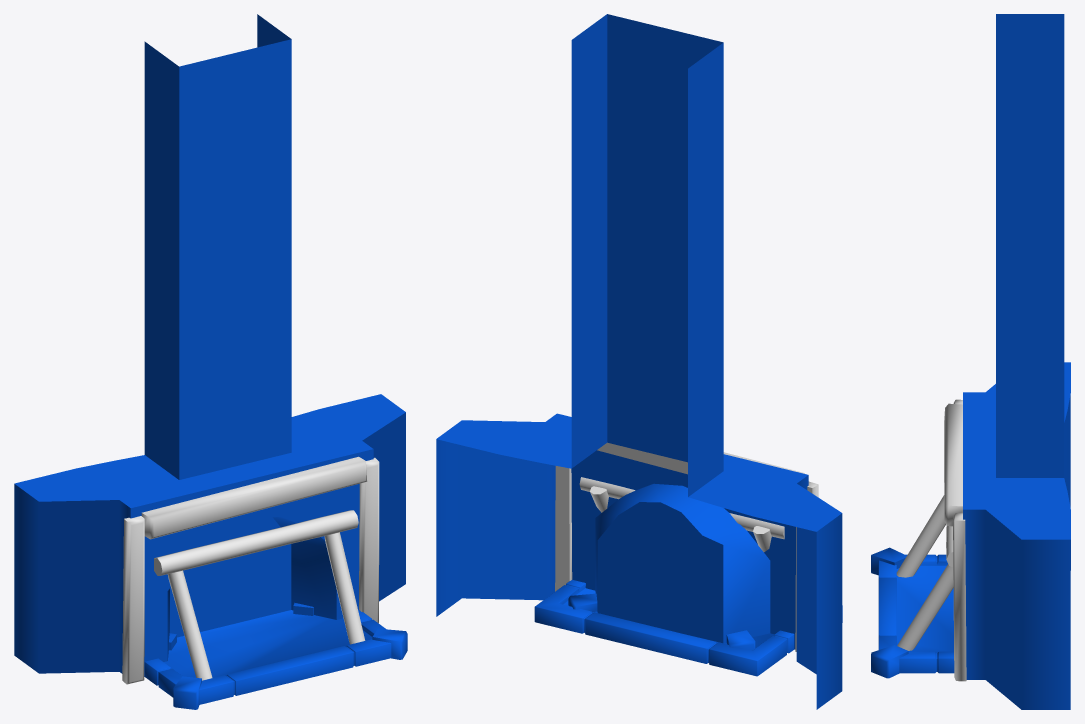
File: SM_FirePitHolder.fbx
The picture shows the model from 3 angles, left to right: view 1: azimuth 30°, elevation 25°; view 2: azimuth 150°, elevation 25°; view 3: azimuth 270°, elevation 25°; orthographic projection. The views are drawn at different scales.
Visible parts, largest first — view 1: SM_FirePitHolder; view 2: SM_FirePitHolder; view 3: SM_FirePitHolder.
Boxes of the visible parts, x1,y1,x2,y2 form: SM_FirePitHolder: (14,14,407,709); SM_FirePitHolder: (436,14,842,709); SM_FirePitHolder: (871,14,1070,709).
Size of the model in its own units: 701 by 1070 by 334.
